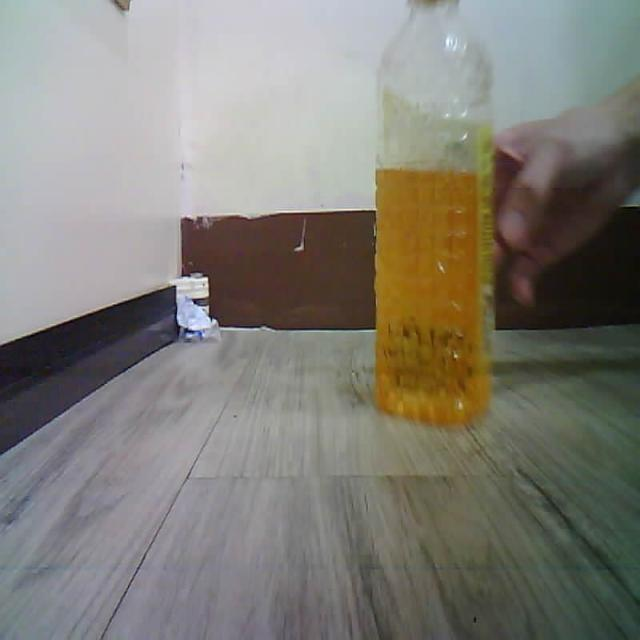bottle: (375, 0, 494, 422)
